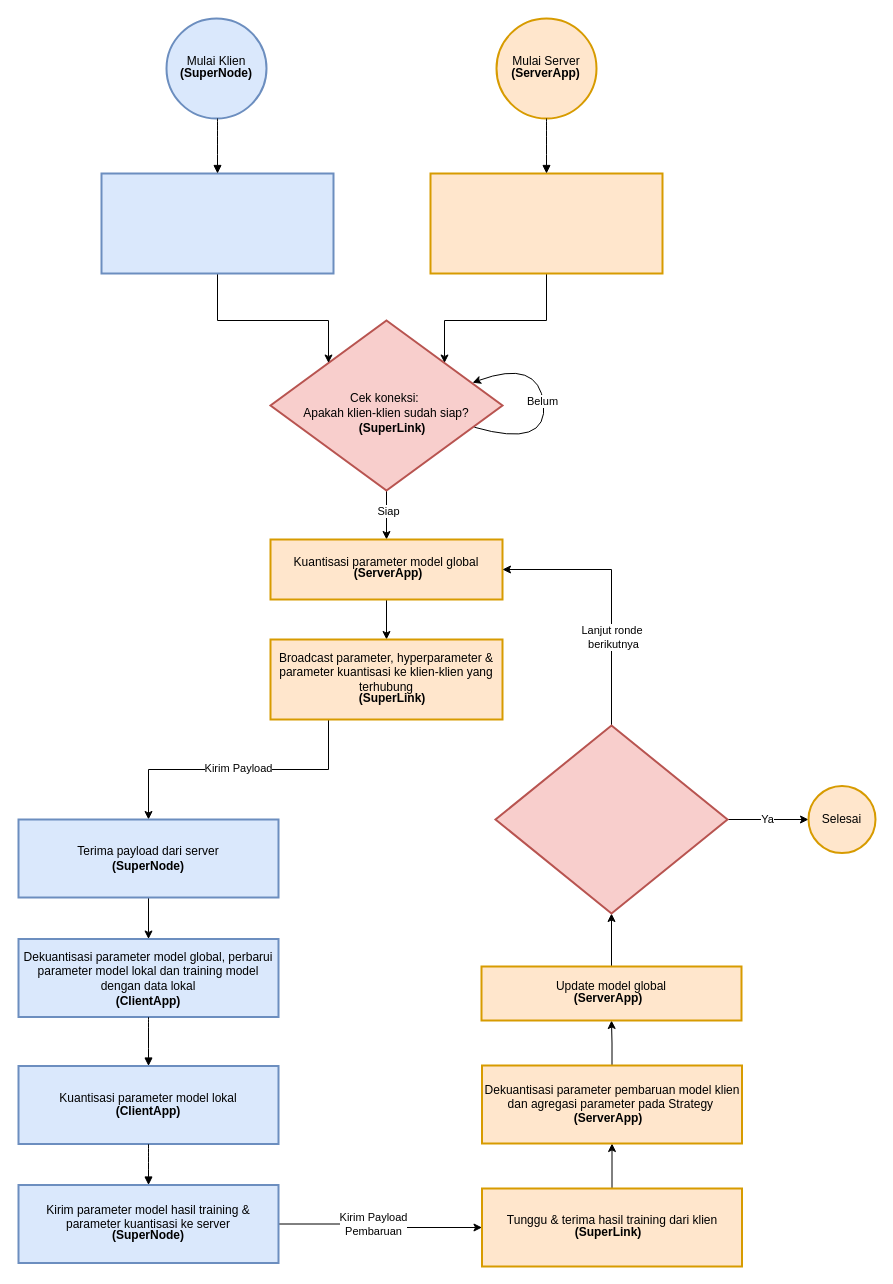
Some shapes in this 893 by 1284 pixel diagram are drawn without their labels. The shapes that lost their labels are listed below. From the top down, each one's centre as x and y in pixels, then its label:
At (217,223): "Request bergabung ke server".
At (546,223): "Inisialisasi parameter model global & konfigurasi training".
At (611,819): "Evaluasi: maksimal ronde tercapai?".
